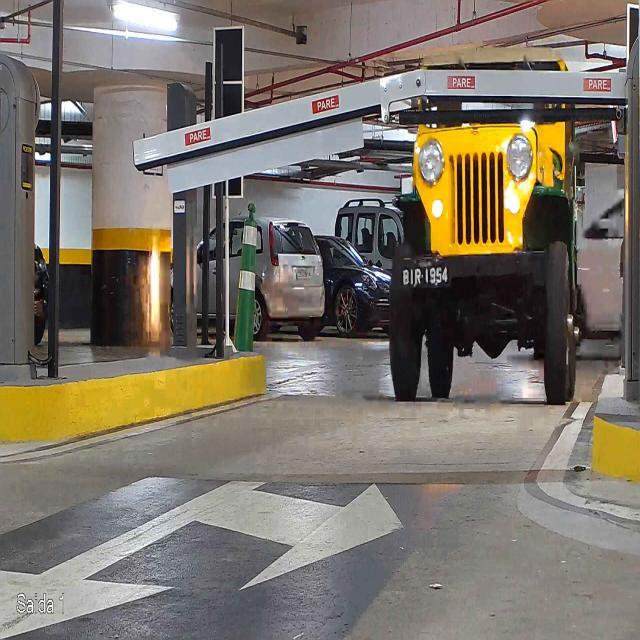old_plate: (396, 256, 452, 291)
